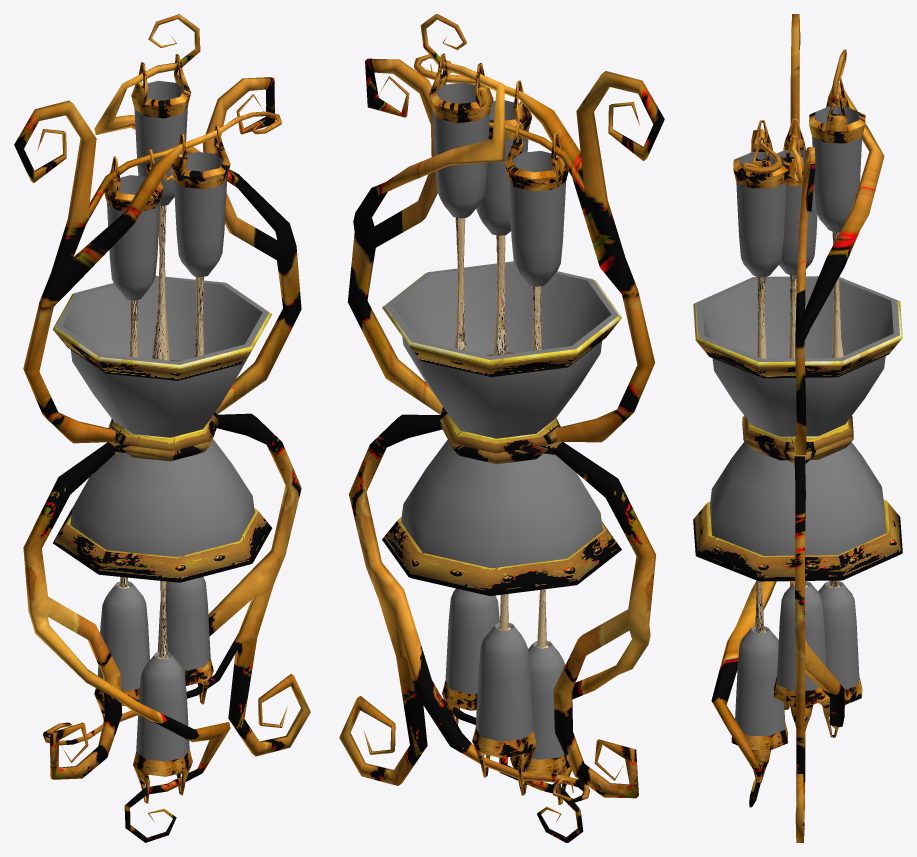
The model's file is cot_hourglass_redo.obj.
The picture shows the model from 3 angles, left to right: view 1: azimuth 30°, elevation 25°; view 2: azimuth 150°, elevation 25°; view 3: azimuth 270°, elevation 25°; orthographic projection. The views are drawn at different scales.
Visible parts, largest first — view 1: Geoset1, Geoset2, Geoset0, Geoset5; view 2: Geoset1, Geoset2, Geoset0, Geoset5; view 3: Geoset1, Geoset2, Geoset0, Geoset5.
Boxes of the visible parts, x1,y1,x2,y2 form: Geoset1: (56,80,269,761); Geoset2: (14,14,310,842); Geoset0: (52,283,272,582); Geoset5: (120,205,204,658); Geoset1: (385,82,618,759); Geoset2: (339,14,664,842); Geoset0: (382,273,621,596); Geoset5: (454,217,546,647); Geoset1: (696,106,899,735); Geoset2: (711,14,884,842); Geoset0: (693,300,902,581); Geoset5: (755,232,843,632).
Size of the model in its own units: 63.4 by 160 by 38.73.
Materials: 5 (5 with a texture image).
